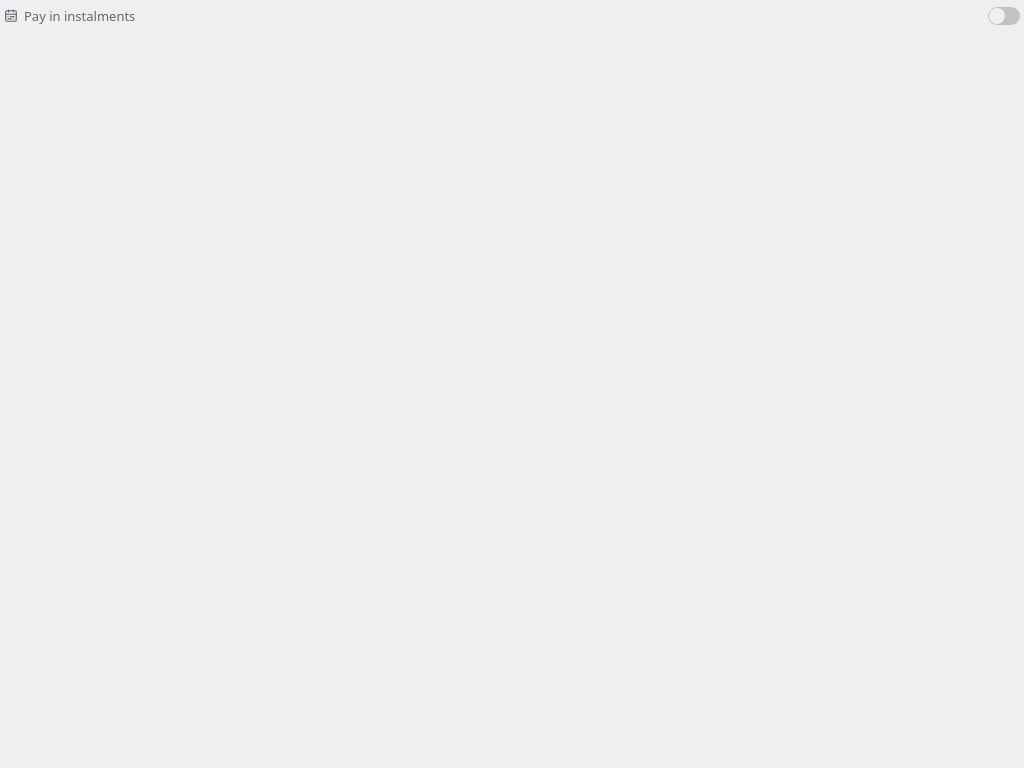
Test: switching on opens the settings; Save leaves the summary in the footer row
Click the switch named "Pay in instalments".
click(1004, 16)  # box [988,7,1020,25]
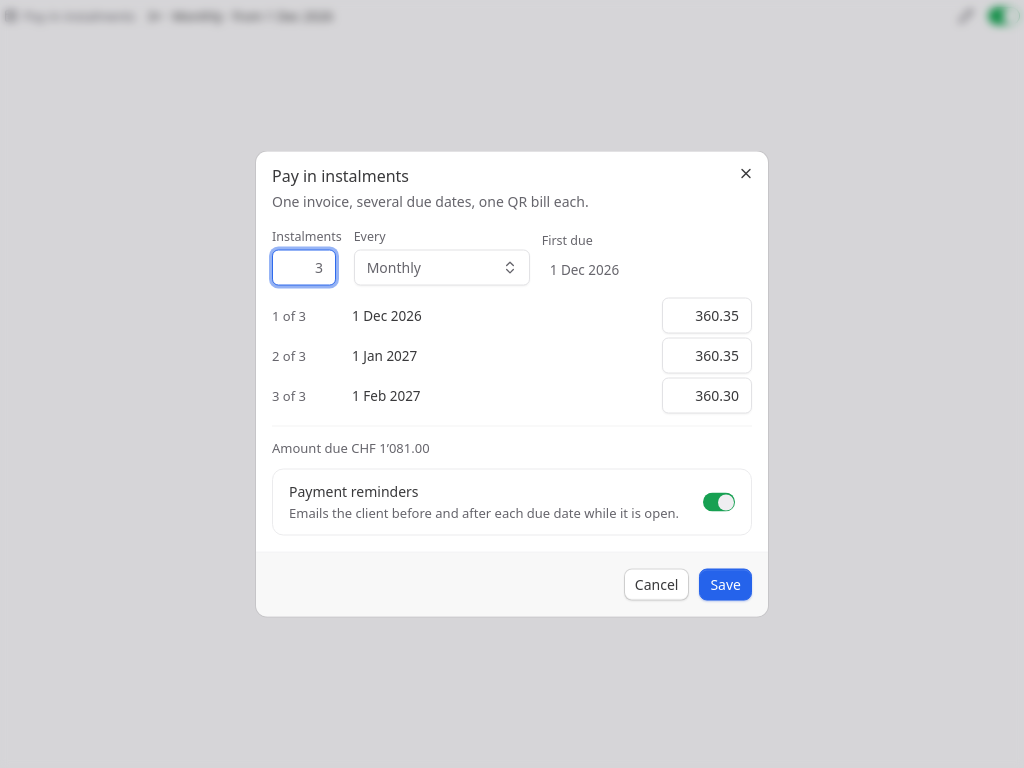
Expected: the switch named "Payment reminders" is checked, [703,493,735,511]
Click the button "Save".
click(726, 584)  # box [699,568,752,600]
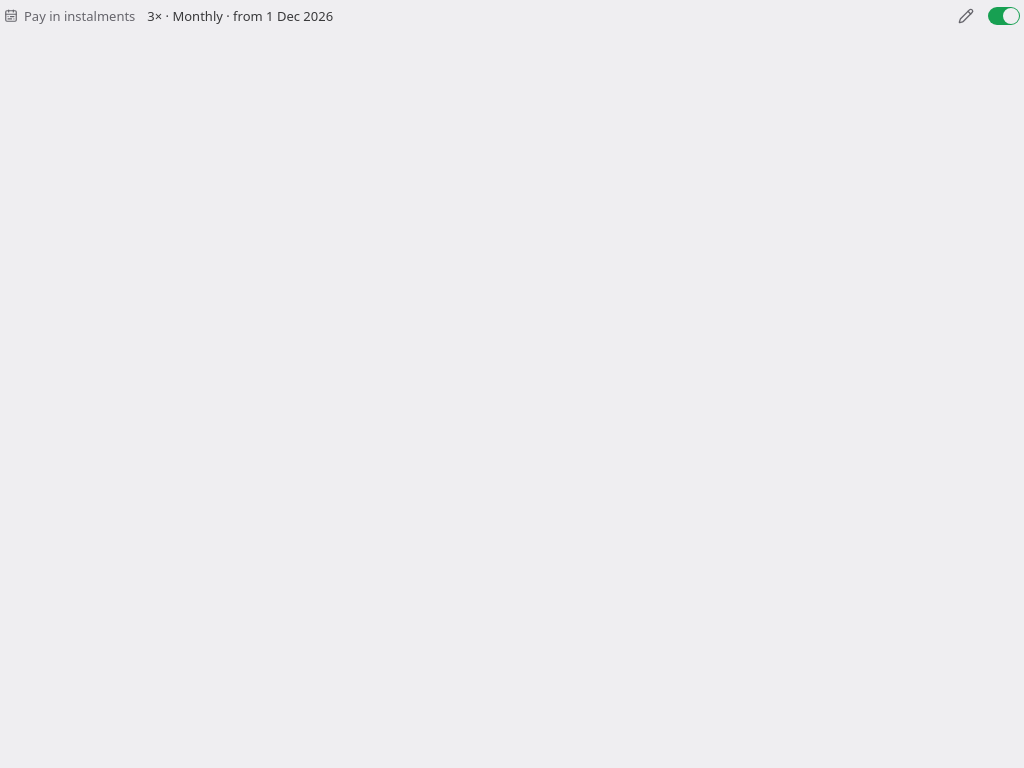
Expected: the switch named "Pay in instalments" is checked, [988,7,1020,25]
Expected: the text "3× · Monthly · from 1 Dec 2026" is shown, [147,7,333,25]
Expected: the dialog is gone
